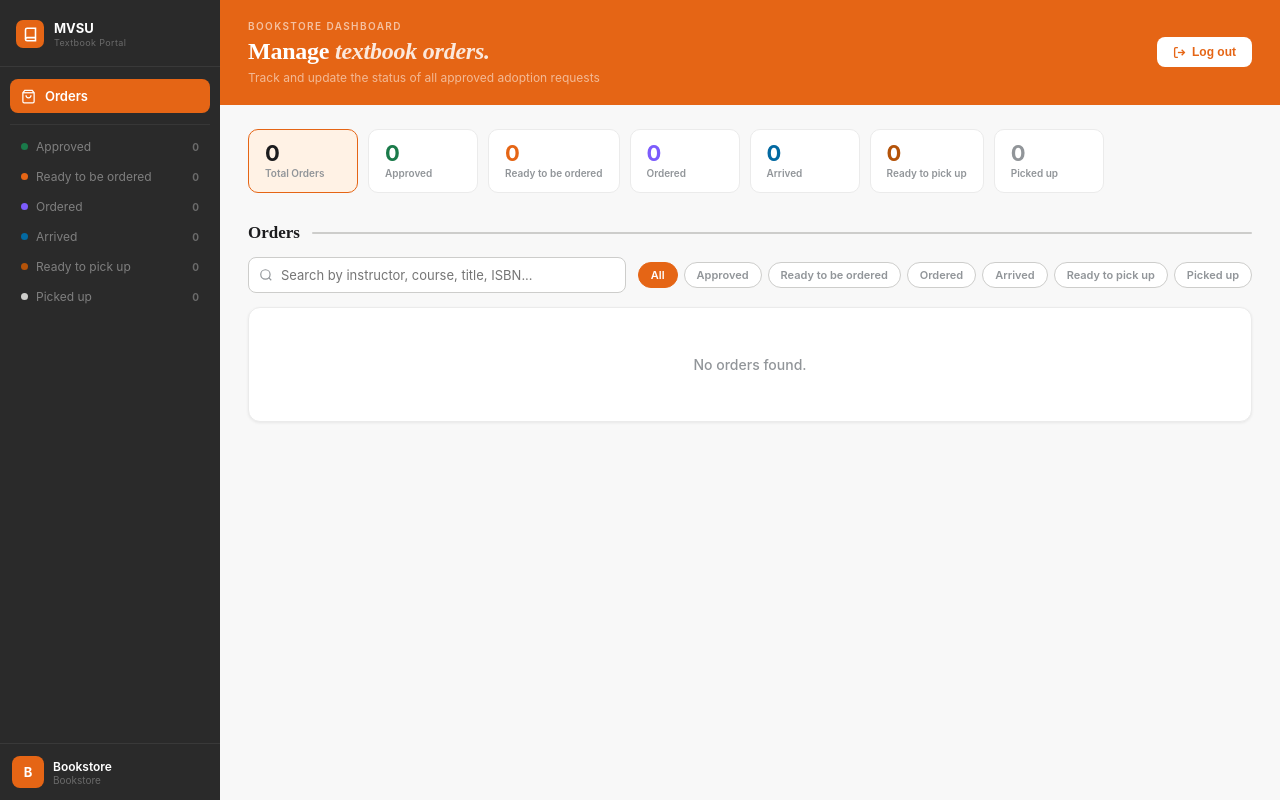
Test case: Bookstore logout clears session and returns to login
This screenshot has width=1280, height=800.
Click the button "Log out" at coordinates (1204, 52), box [1157, 37, 1252, 67]
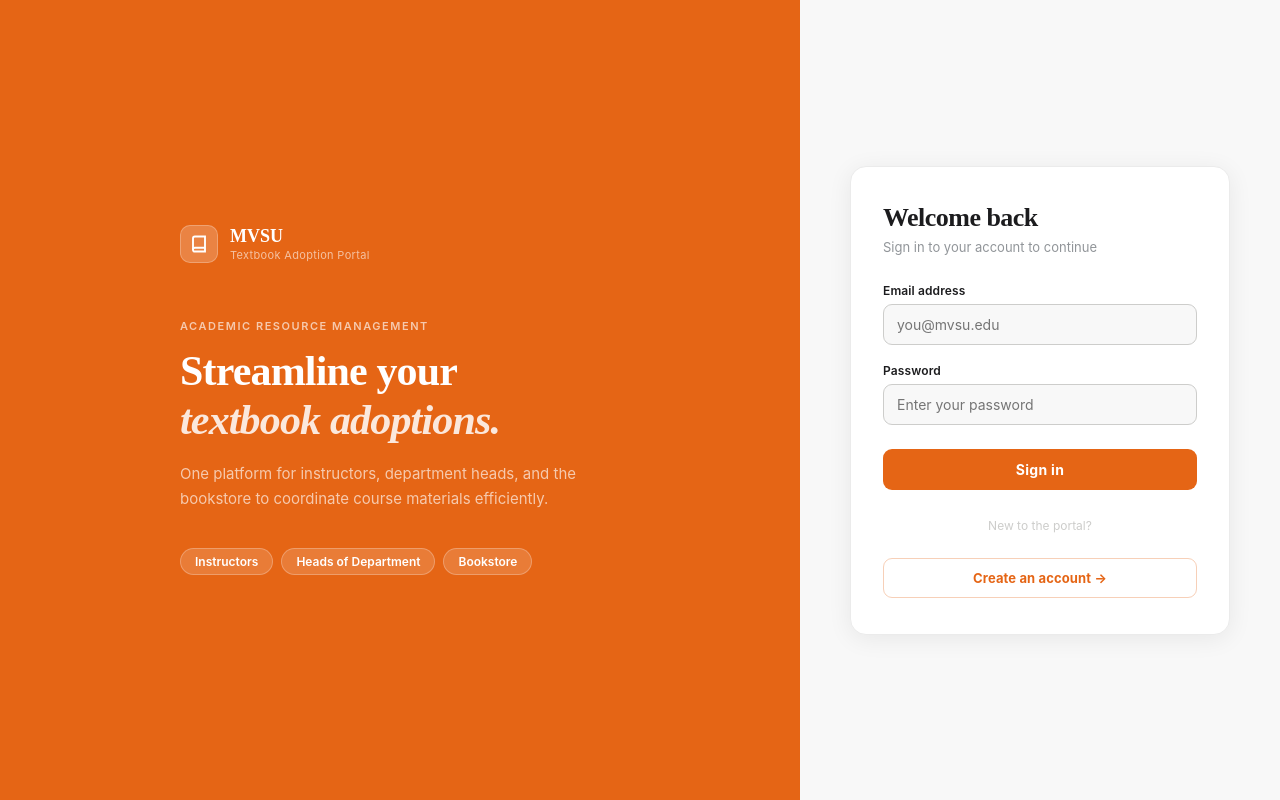
Check: the button "Sign in" is shown, box [883, 448, 1197, 490]
